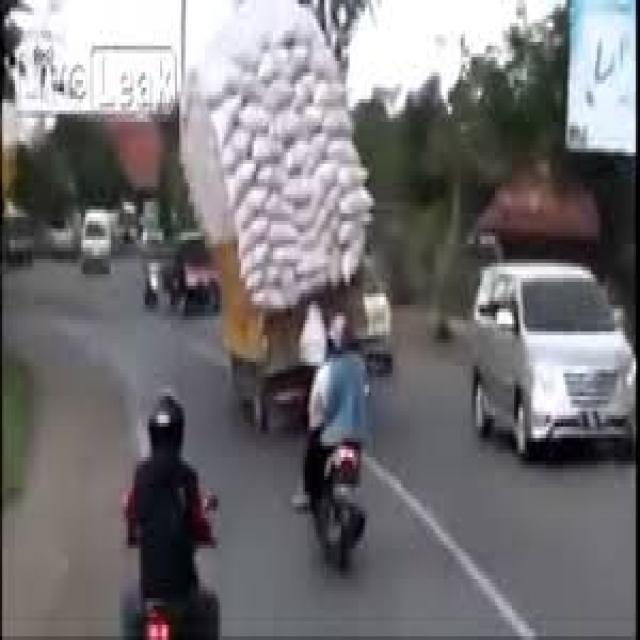uncovered: (181, 1, 368, 424)
